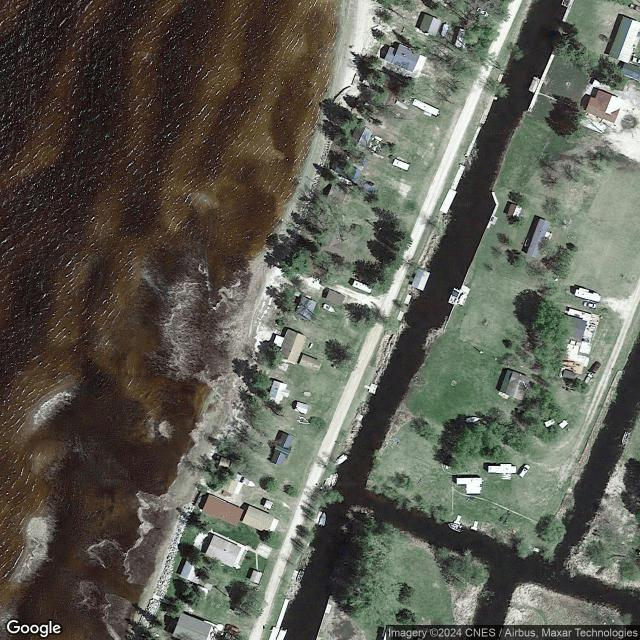Propane: (307, 342, 314, 350)
